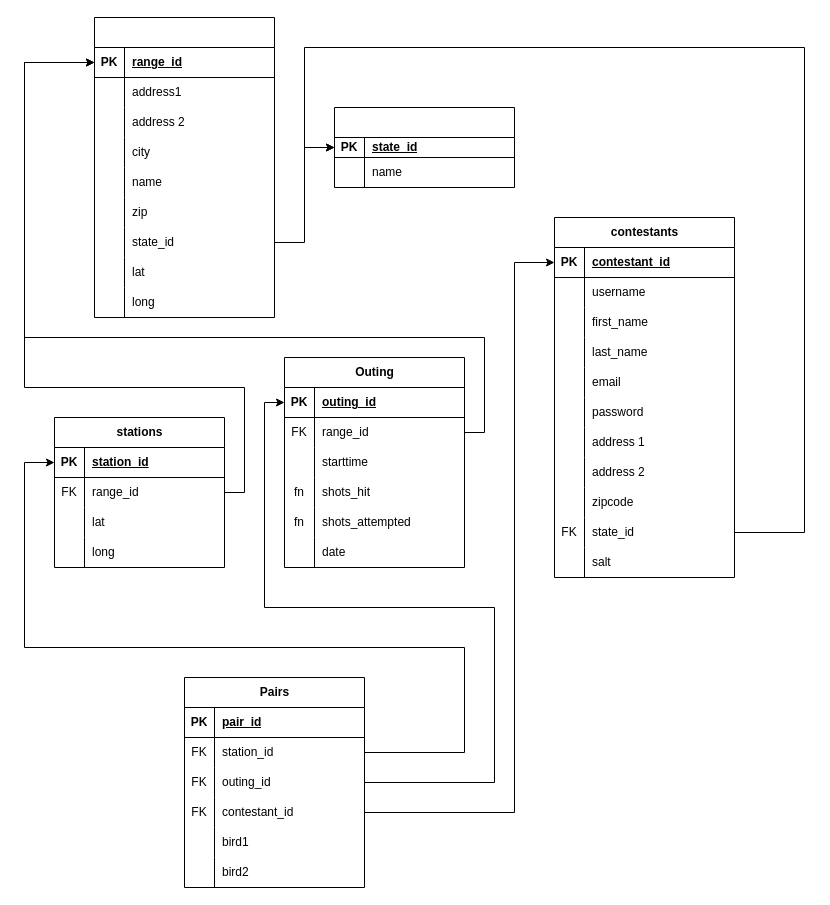
Image size: 830x905. Some labels were removed from this diagram. The box of each missing label's shape, as (x1, y1, x2, y2) in pixels:
ranges: (94, 16, 274, 318)
states: (334, 106, 514, 188)
